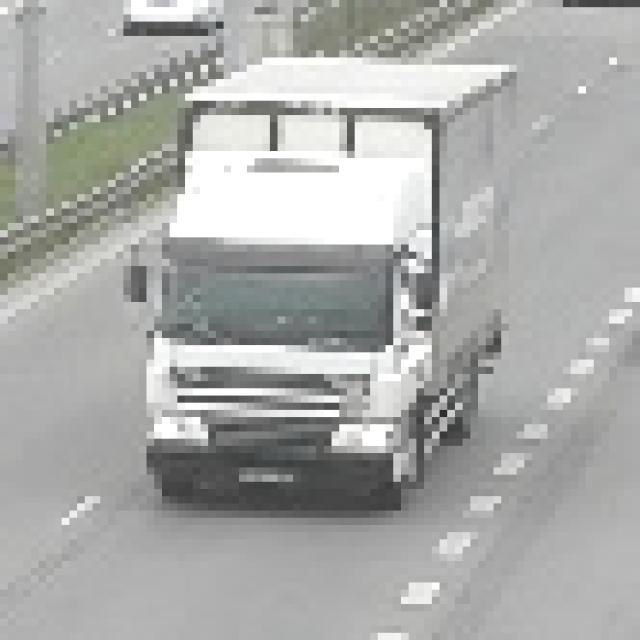truck: (117, 45, 510, 505)
